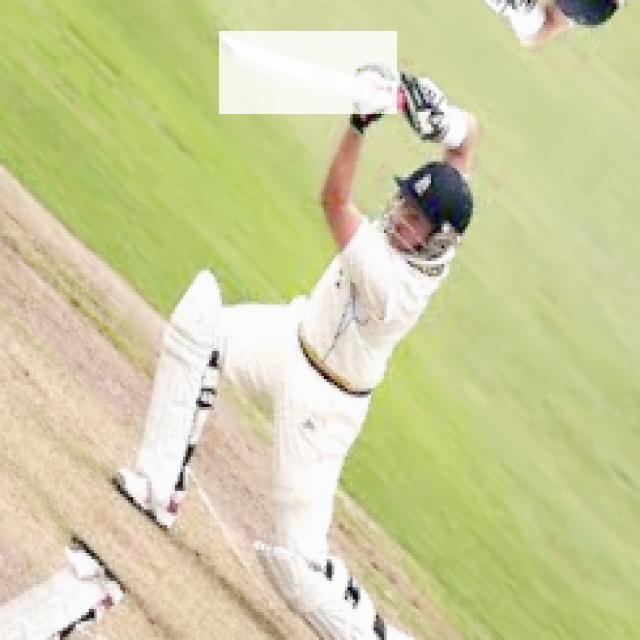bat: (218, 29, 400, 114)
toe: (219, 32, 241, 61)
